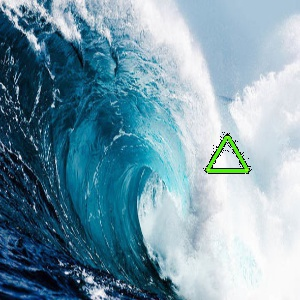triangle: (202, 130, 252, 177)
